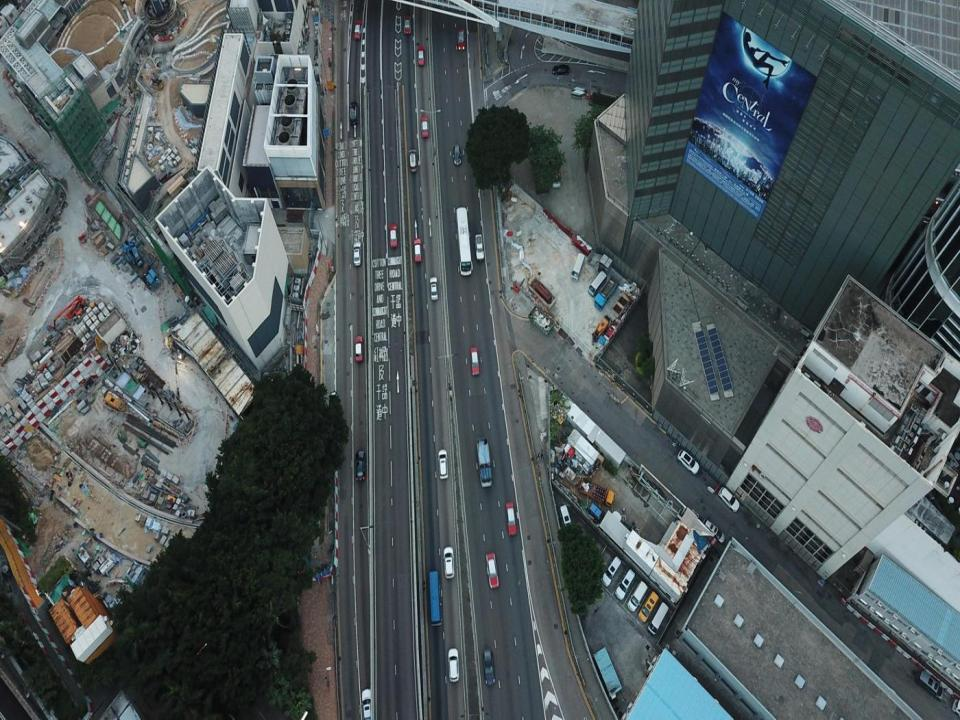bus: (454, 207, 474, 275), (427, 570, 444, 627)
car: (676, 446, 700, 474), (718, 487, 740, 512), (486, 549, 498, 592), (503, 501, 516, 539), (447, 647, 460, 682), (354, 448, 366, 483), (360, 686, 373, 718), (353, 332, 365, 366), (484, 647, 495, 683), (442, 546, 454, 578), (468, 344, 480, 376), (347, 97, 359, 128), (474, 232, 485, 262), (351, 240, 361, 269), (353, 18, 364, 44), (455, 24, 465, 52), (439, 450, 448, 481), (407, 148, 417, 175), (552, 63, 571, 77), (429, 275, 438, 302), (414, 235, 422, 265), (453, 144, 463, 168), (420, 113, 429, 139), (390, 224, 399, 249), (416, 44, 425, 68), (403, 11, 412, 35)
truck: (576, 478, 614, 507), (596, 278, 616, 312)
van: (916, 664, 945, 696), (476, 438, 493, 488), (625, 578, 647, 614), (648, 601, 668, 634), (613, 568, 634, 598), (639, 592, 658, 623), (602, 556, 620, 588), (588, 269, 606, 295), (559, 500, 573, 532), (571, 252, 584, 279), (953, 700, 960, 714)
